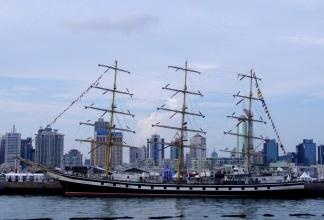fanchuan: (33, 59, 313, 196)
